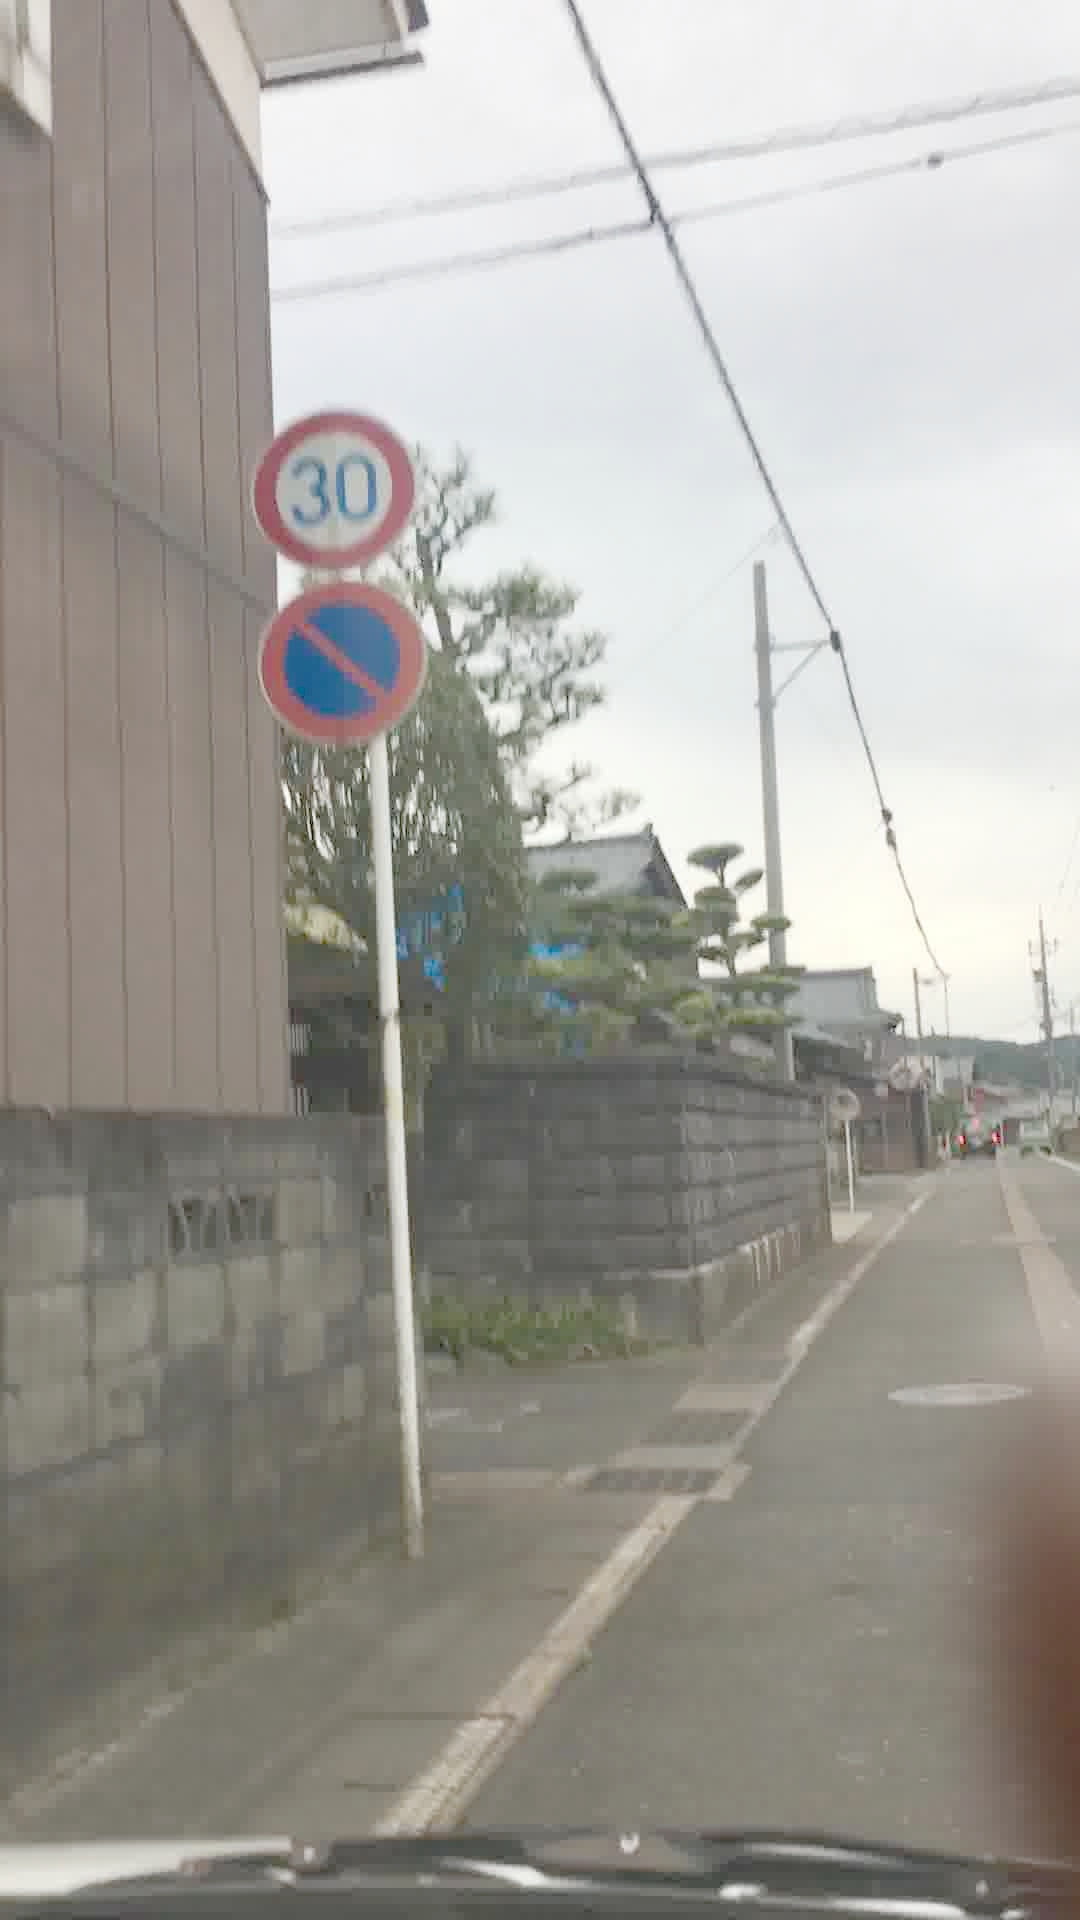Prohibition_sign: (237, 564, 440, 775)
Speed_sign: (256, 404, 422, 568)
